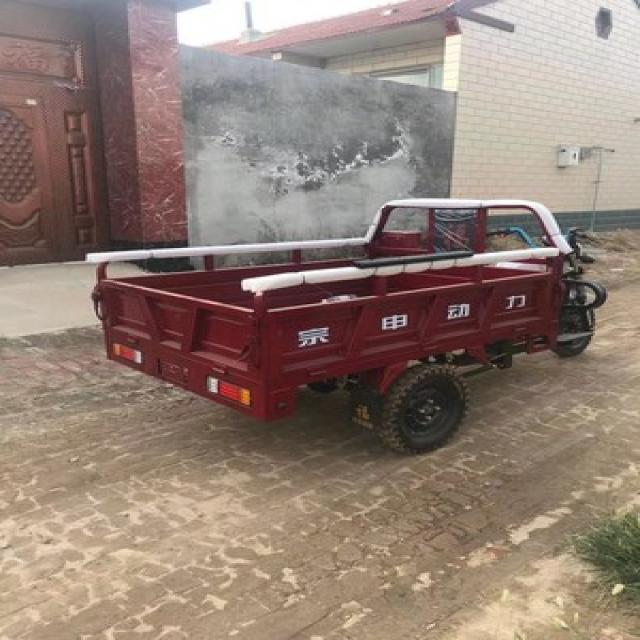tricycle: (89, 197, 606, 454)
